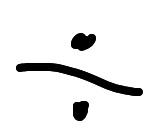div: (16, 32, 143, 122)
